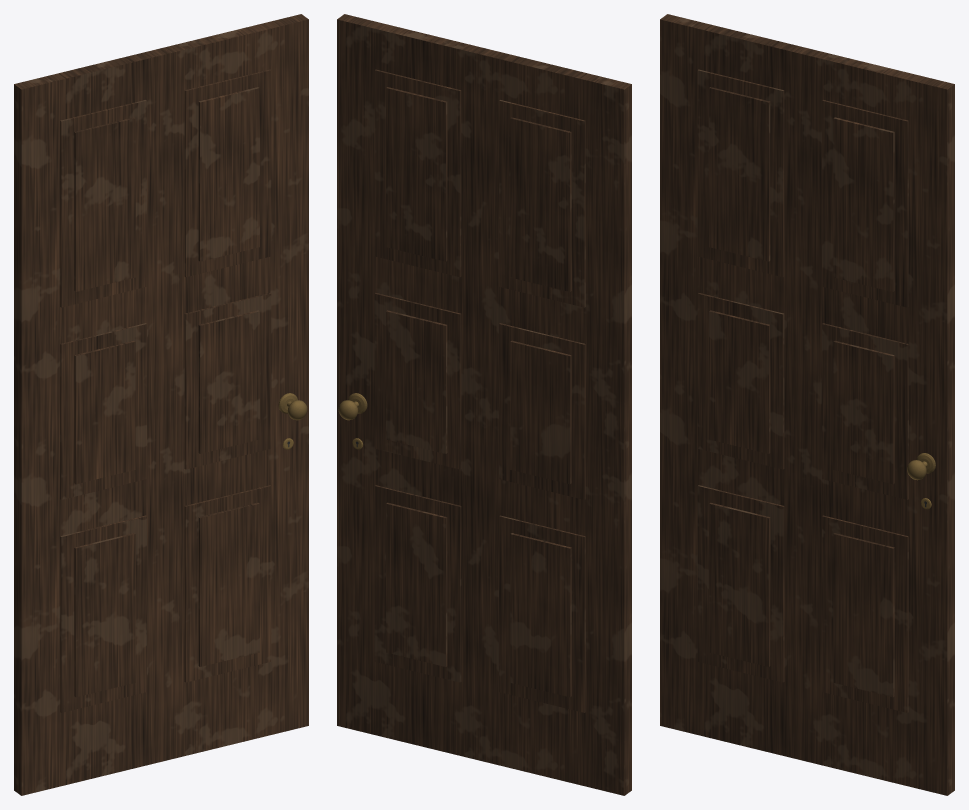
Rendered from SM_FJH_Door_Interior.fbx.
The picture shows the model from 3 angles, left to right: view 1: azimuth 30°, elevation 25°; view 2: azimuth 150°, elevation 25°; view 3: azimuth 330°, elevation 25°; orthographic projection.
Visible parts, largest first — view 1: SM_FJH_Door_Interior; view 2: SM_FJH_Door_Interior; view 3: SM_FJH_Door_Interior.
Part boxes in pixels (x1,y1,x2,y2): SM_FJH_Door_Interior: (14, 14, 308, 795); SM_FJH_Door_Interior: (337, 14, 631, 795); SM_FJH_Door_Interior: (660, 14, 954, 795).
Size of what is drawn, in the model's own units: 0.89 by 2.09 by 0.184.
3 materials, 2 textured.
